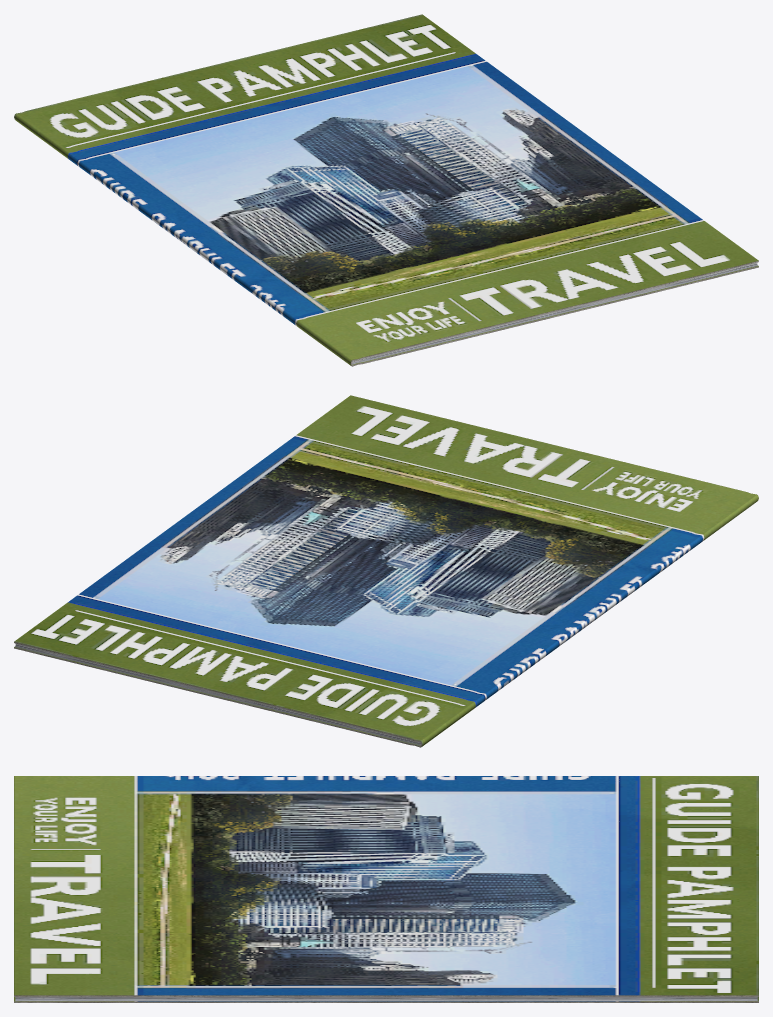
File: 006_guidepamphlet01a.fbx
The picture shows the model from 3 angles, top to bottom: view 1: azimuth 30°, elevation 25°; view 2: azimuth 150°, elevation 25°; view 3: azimuth 270°, elevation 25°; orthographic projection. The views are drawn at different scales.
Parts seen in each view (by area): view 1: LOD_1_Group_0_Sub_1__sm74_006_GuidePamphlet01A_A_Mat__Env_de; view 2: LOD_1_Group_0_Sub_1__sm74_006_GuidePamphlet01A_A_Mat__Env_de; view 3: LOD_1_Group_0_Sub_1__sm74_006_GuidePamphlet01A_A_Mat__Env_de.
Part boxes in pixels (x1=…): LOD_1_Group_0_Sub_1__sm74_006_GuidePamphlet01A_A_Mat__Env_de: x1=14, y1=14, x2=758, y2=366; LOD_1_Group_0_Sub_1__sm74_006_GuidePamphlet01A_A_Mat__Env_de: x1=14, y1=395, x2=758, y2=747; LOD_1_Group_0_Sub_1__sm74_006_GuidePamphlet01A_A_Mat__Env_de: x1=14, y1=776, x2=758, y2=1002.
Bounding box in the file's own units: 0.1751 × 0.00277 × 0.25.
